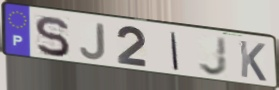2: (115, 24, 149, 70)
I: (169, 30, 181, 72)
J: (197, 35, 229, 77), (78, 22, 108, 62)
K: (238, 39, 268, 84)
S: (33, 15, 72, 58)
